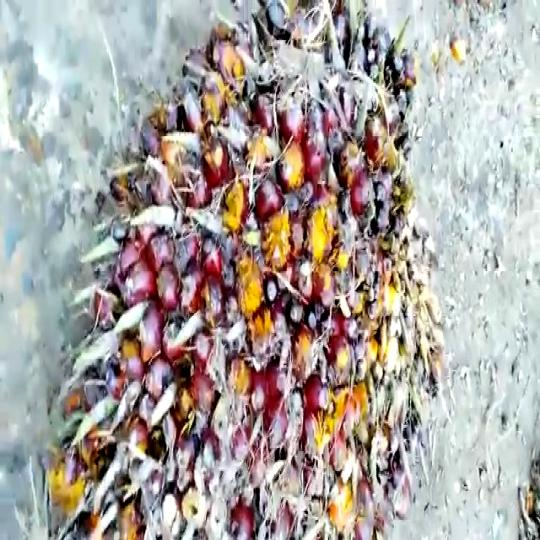masak: (39, 0, 431, 540)
